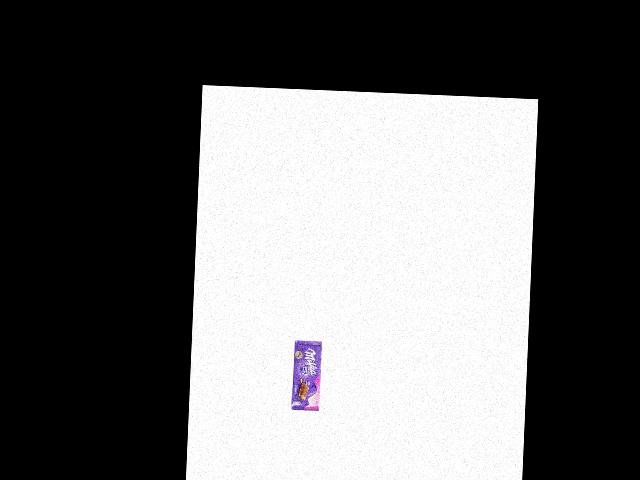chocolate: (290, 339, 322, 410)
